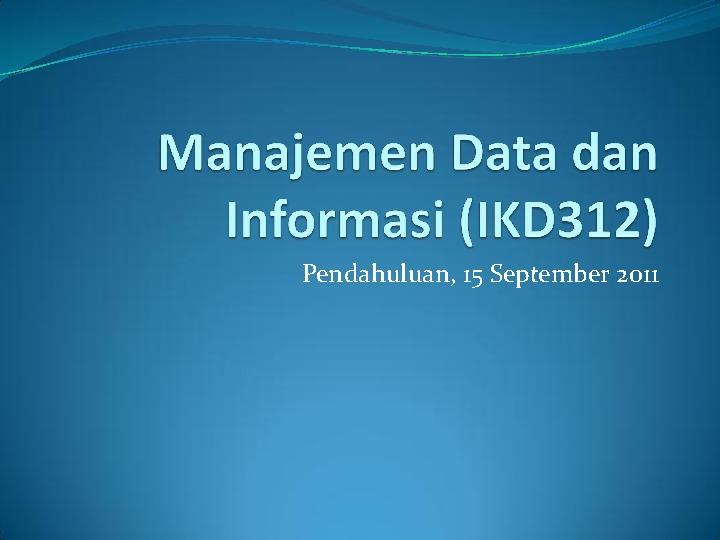title: (156, 117, 686, 298)
